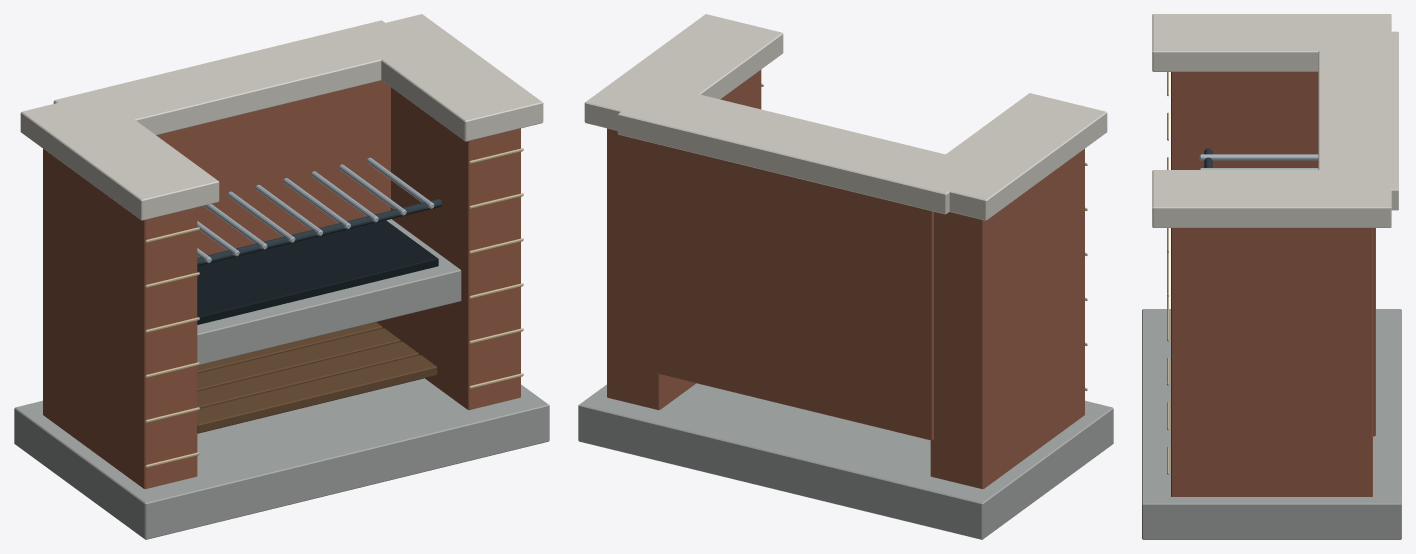
File: b11_brick_backyard_barbecue.glb
3 renders of one model, left to right at view 1: azimuth 30°, elevation 25°; view 2: azimuth 150°, elevation 25°; view 3: azimuth 270°, elevation 25°, orthographic.
Parts seen in each view (by area): view 1: b11_brick_backyard_barbecue; view 2: b11_brick_backyard_barbecue; view 3: b11_brick_backyard_barbecue.
Part boxes in pixels (x1,y1,x2,y2): b11_brick_backyard_barbecue: (14, 14, 549, 539); b11_brick_backyard_barbecue: (578, 14, 1113, 539); b11_brick_backyard_barbecue: (1142, 14, 1401, 539).
Size of the model in its own units: 1.6 by 1.27 by 0.9.
